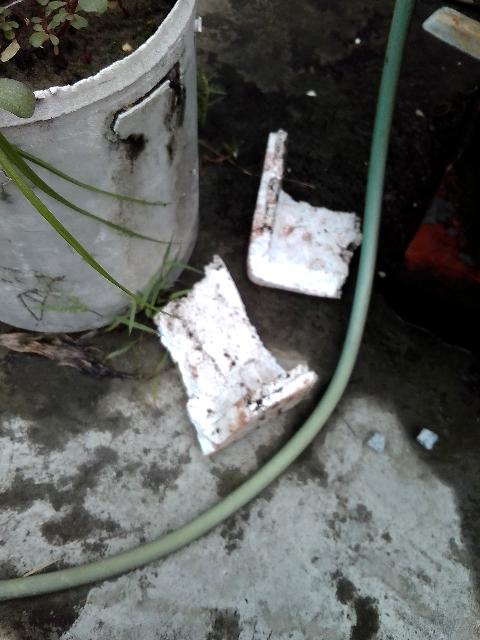cocksheet: (142, 260, 308, 461), (248, 180, 363, 296)
